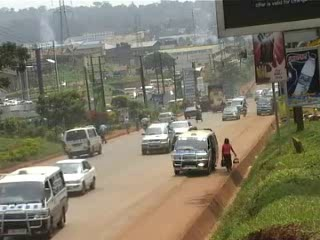Car: (54, 156, 98, 197), (167, 118, 197, 144), (156, 106, 178, 124), (221, 105, 243, 122), (179, 106, 205, 119)
Motorcycle: (138, 112, 150, 133), (240, 99, 248, 117), (219, 99, 226, 112)
